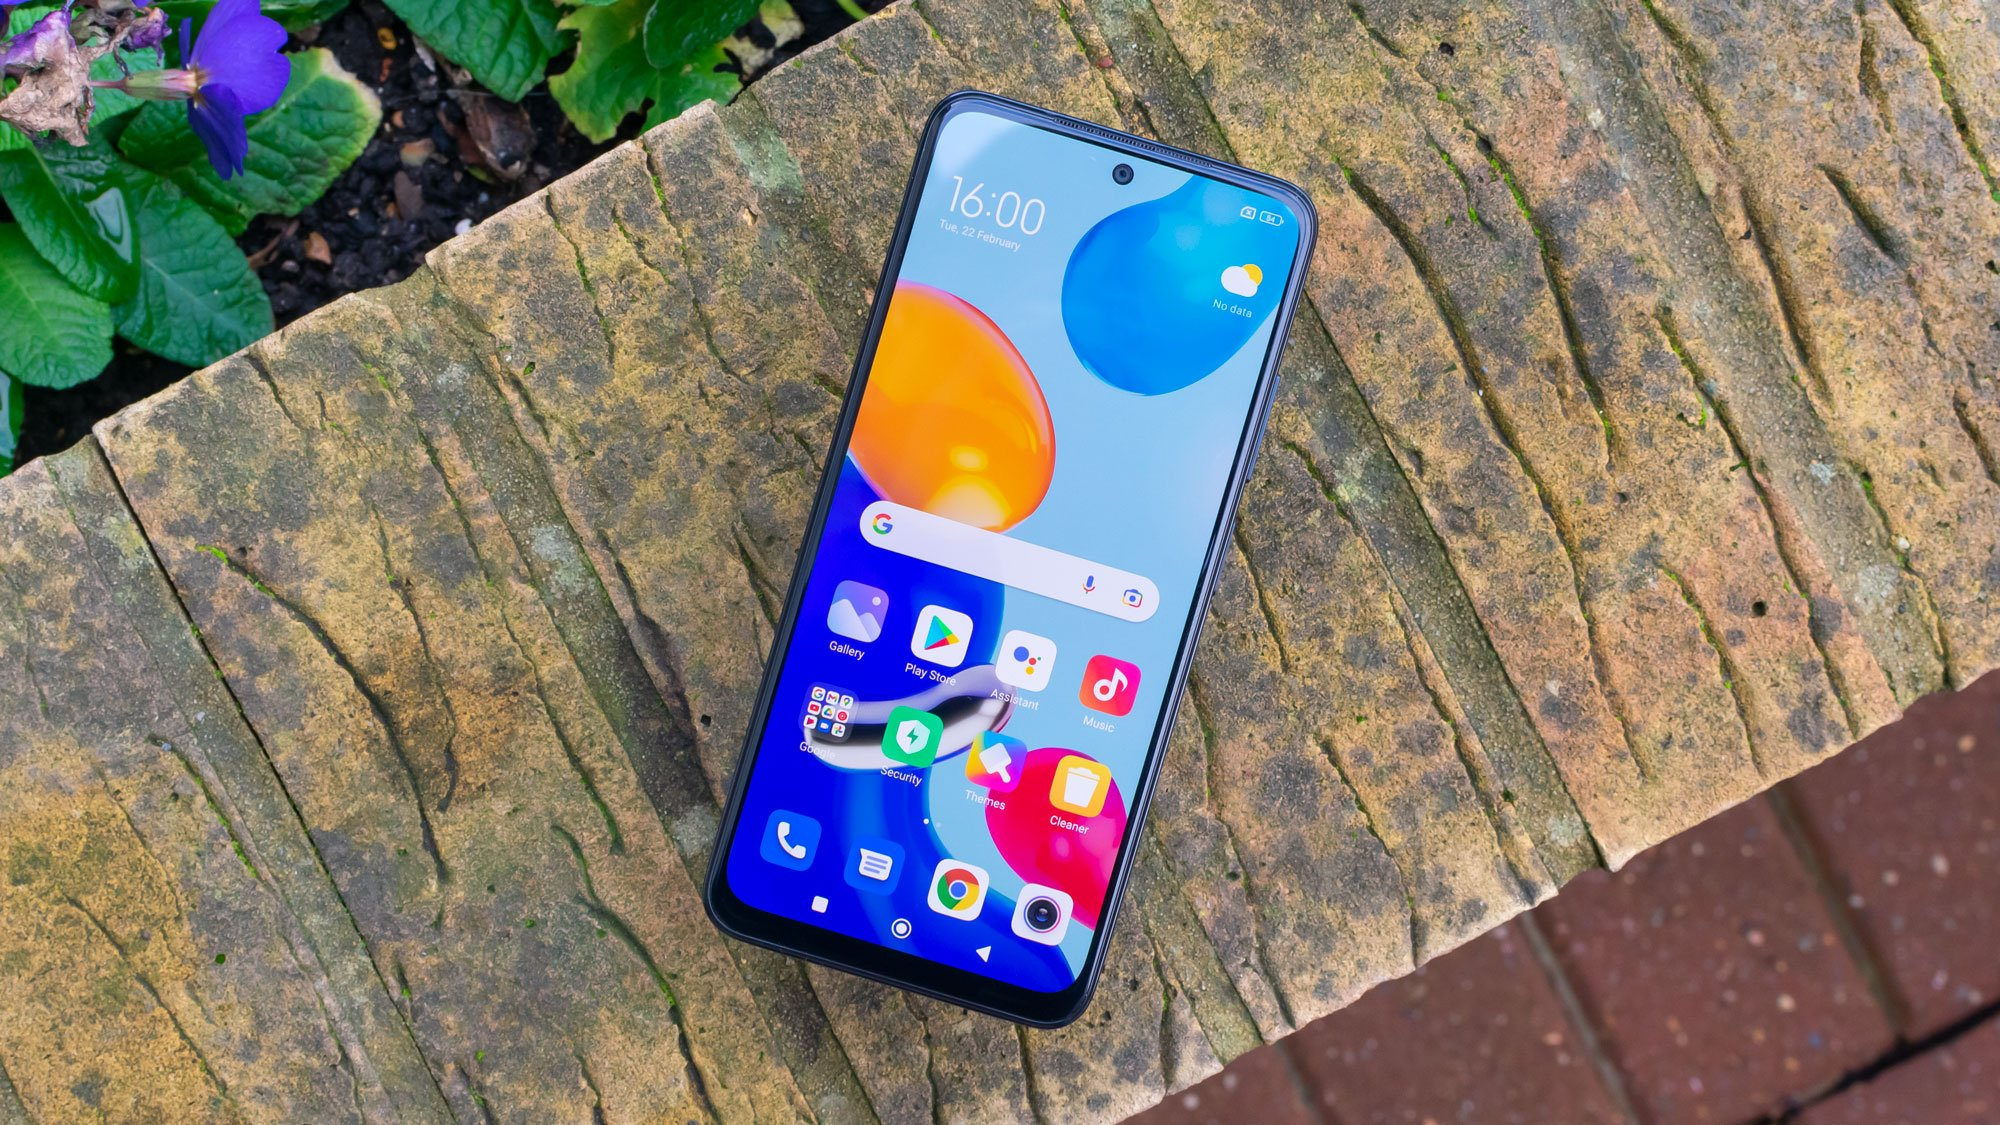phones: (681, 95, 1315, 1025)
